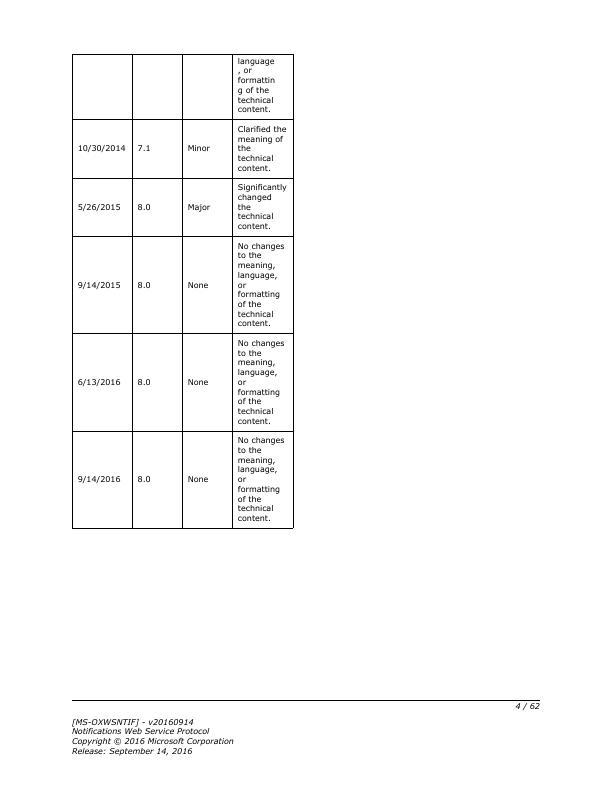table: (68, 50, 298, 531)
text: (66, 715, 238, 757)
